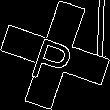P_N: (29, 25, 81, 85)
